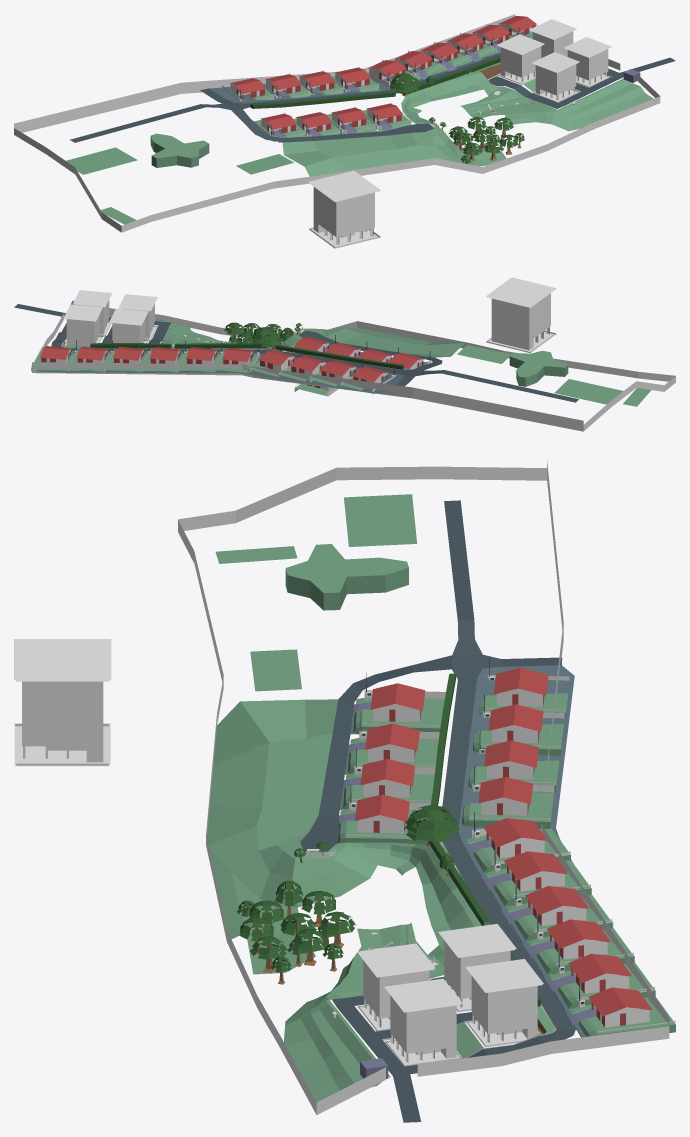
The picture shows the model from 3 angles, top to bottom: view 1: azimuth 30°, elevation 25°; view 2: azimuth 150°, elevation 25°; view 3: azimuth 270°, elevation 25°; orthographic projection. The views are drawn at different scales.
Visible parts, largest first — view 1: grama, muro, rua, Plane.002, clube, Plane.003, Plane.004, Plane.005, cerca-viva, Plane.001, calçada, Plane.006; view 2: muro, roof (×14), Plane.002, grama, clube, rua, cerca-viva, Plane.001, calçada, Plane.004, Plane.003, Plane.005 (+1 smaller); view 3: grama, rua, cerca-casa (×13), roof (×14), muro, Plane.002, clube, Plane.001, Plane.005, calçada, Plane.003, Plane.004 (+2 smaller).
Part boxes in pixels (box(x1,y1,x2,y2)): grama: box(282, 62, 653, 176); muro: box(14, 14, 660, 232); rua: box(69, 54, 675, 142); Plane.002: box(308, 170, 380, 248); clube: box(66, 133, 293, 224); Plane.003: box(532, 52, 579, 102); Plane.004: box(497, 34, 544, 84); Plane.005: box(564, 37, 611, 87); cerca-viva: box(250, 56, 500, 108); Plane.001: box(529, 19, 576, 57); calçada: box(209, 52, 500, 103); Plane.006: box(389, 73, 420, 96); muro: box(32, 305, 675, 431); roof (×14): box(40, 337, 424, 381); Plane.002: box(486, 277, 556, 353); grama: box(62, 313, 466, 357); clube: box(457, 345, 651, 406); rua: box(14, 304, 578, 402); cerca-viva: box(90, 343, 403, 369); Plane.001: box(64, 304, 102, 345); calçada: box(36, 352, 403, 393); Plane.004: box(109, 308, 148, 343); Plane.003: box(118, 294, 157, 340); Plane.005: box(73, 290, 112, 335); grama: box(207, 699, 555, 1102); rua: box(300, 500, 575, 1122); cerca-casa (×13): box(337, 697, 675, 1037); roof (×14): box(355, 668, 652, 1016); muro: box(178, 461, 669, 1114); Plane.002: box(14, 639, 111, 766); clube: box(215, 494, 417, 691); Plane.001: box(465, 959, 543, 1047); Plane.005: box(384, 978, 462, 1065); calçada: box(458, 665, 576, 1029); Plane.003: box(357, 943, 435, 1031); Plane.004: box(438, 923, 516, 1012).
Size of the model in its own units: 10.55 by 1.3 by 5.34.
